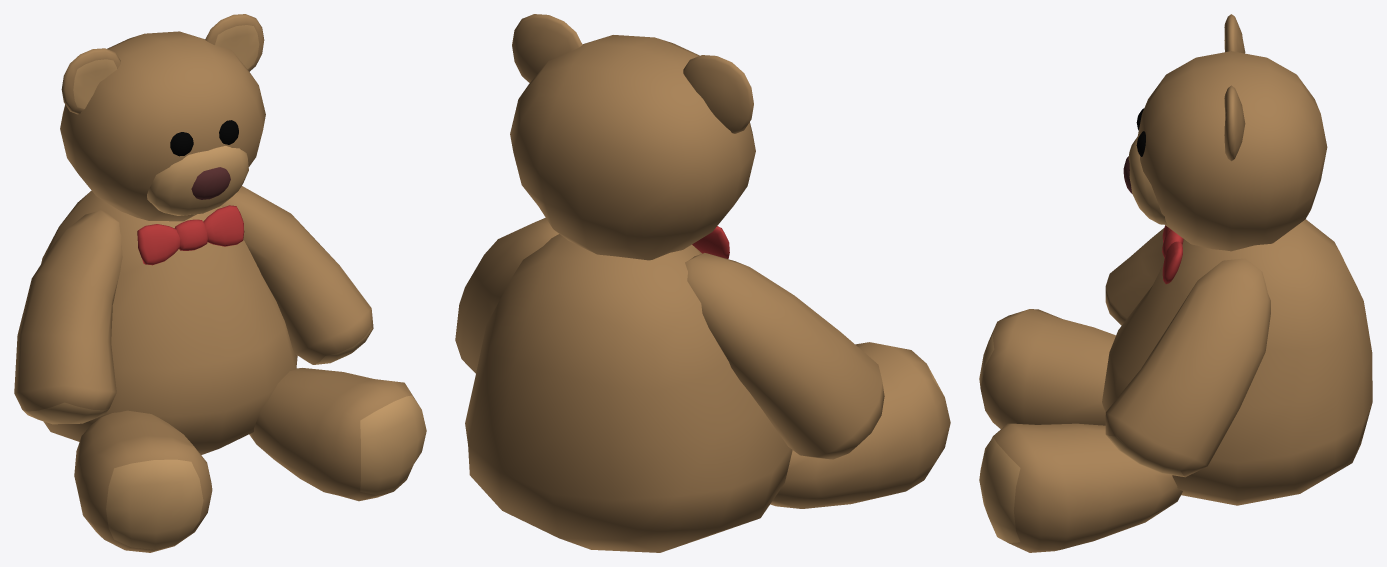
The model's file is Teddy_Bear.fbx.
3 renders of one model, left to right at view 1: azimuth 30°, elevation 25°; view 2: azimuth 150°, elevation 25°; view 3: azimuth 270°, elevation 25°, orthographic. The views are drawn at different scales.
Parts seen in each view (by area): view 1: Teddy_Bear; view 2: Teddy_Bear; view 3: Teddy_Bear.
Boxes of the visible parts, box(x1,y1,x2,y2) form: Teddy_Bear: box(14, 14, 426, 552); Teddy_Bear: box(455, 14, 950, 552); Teddy_Bear: box(979, 14, 1372, 552).
Size of the model in its own units: 86.89 by 102 by 83.26.
